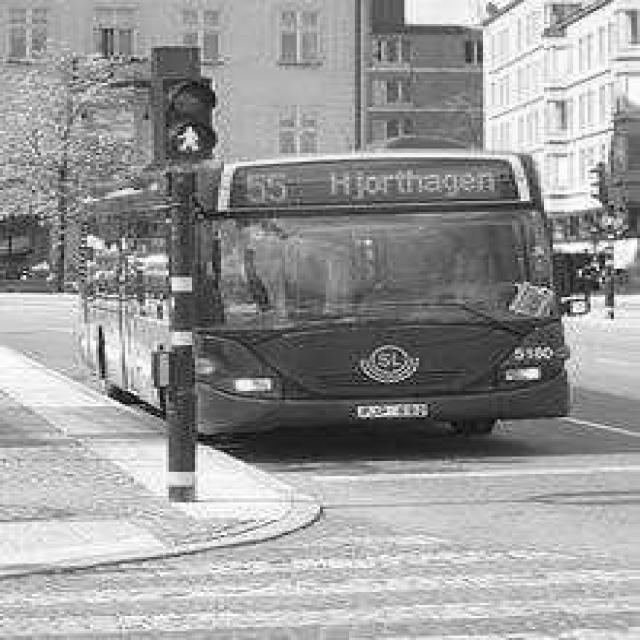Bus: (67, 135, 586, 445)
Pole: (128, 41, 218, 513)
